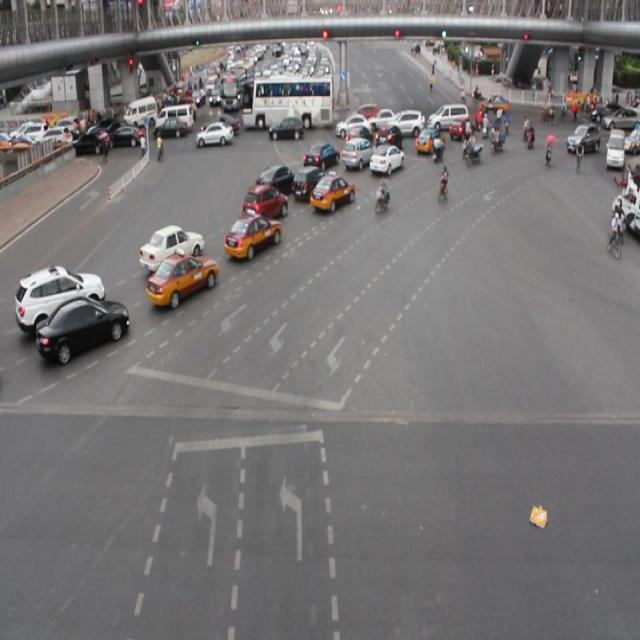car: (38, 298, 130, 362), (15, 266, 105, 330), (145, 251, 218, 307), (139, 221, 207, 277), (225, 214, 282, 261), (242, 182, 289, 223), (310, 171, 356, 211), (254, 163, 297, 198), (292, 165, 329, 202), (341, 136, 376, 171), (302, 140, 339, 172), (368, 142, 403, 174), (414, 125, 443, 156)
